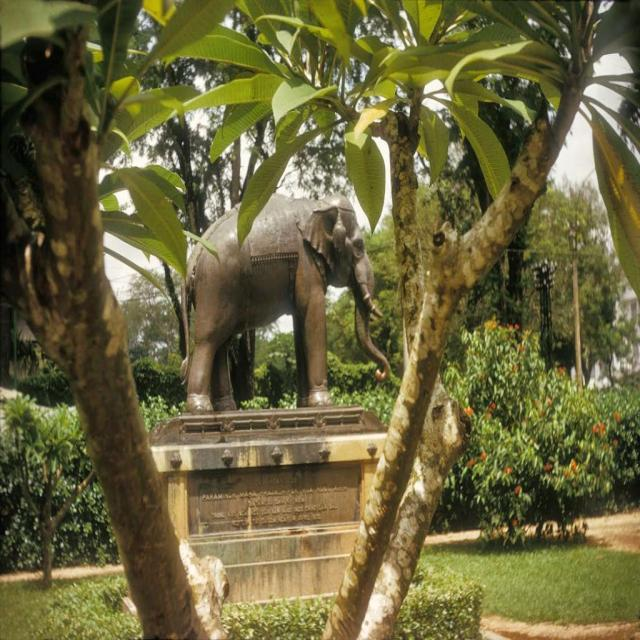Elephant: (162, 174, 392, 414)
